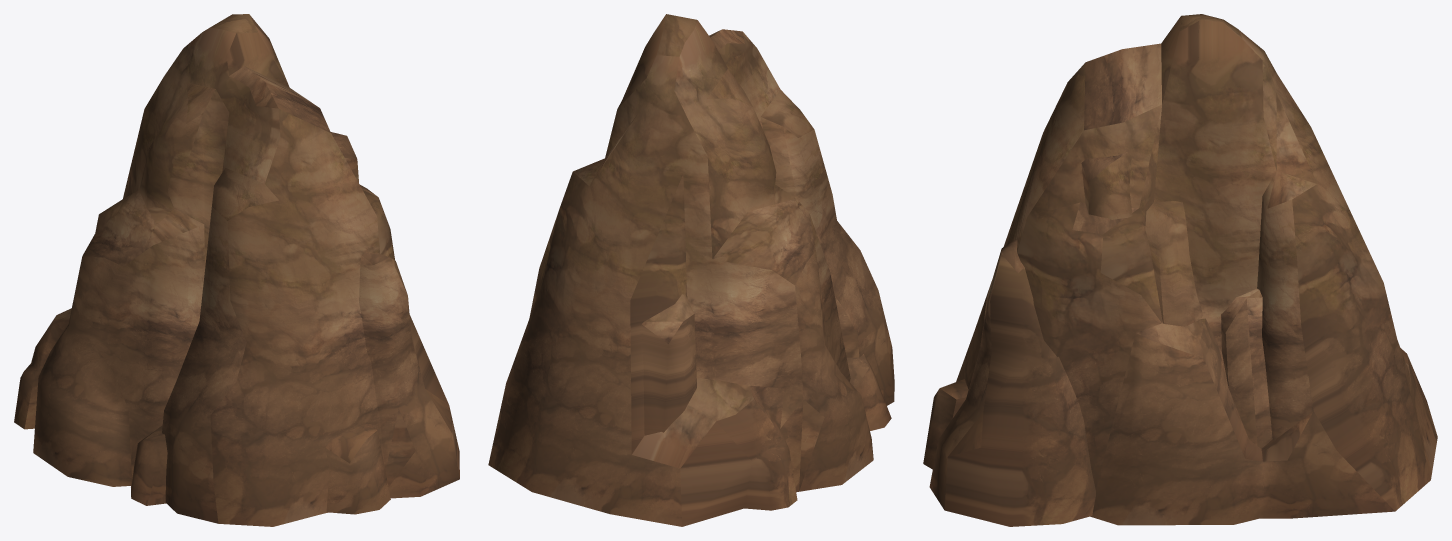
Rendered from handan_field_d_i01b.fbx.
The picture shows the model from 3 angles, left to right: view 1: azimuth 30°, elevation 25°; view 2: azimuth 150°, elevation 25°; view 3: azimuth 270°, elevation 25°; orthographic projection. The views are drawn at different scales.
Parts seen in each view (by area): view 1: handan_field_d_i01b; view 2: handan_field_d_i01b; view 3: handan_field_d_i01b.
Boxes of the visible parts, <box> form: handan_field_d_i01b: <box>14,14,459,526</box>; handan_field_d_i01b: <box>488,14,894,526</box>; handan_field_d_i01b: <box>923,14,1437,526</box>.
Bounding box in the file's own units: 3067 × 3749 × 3918.
